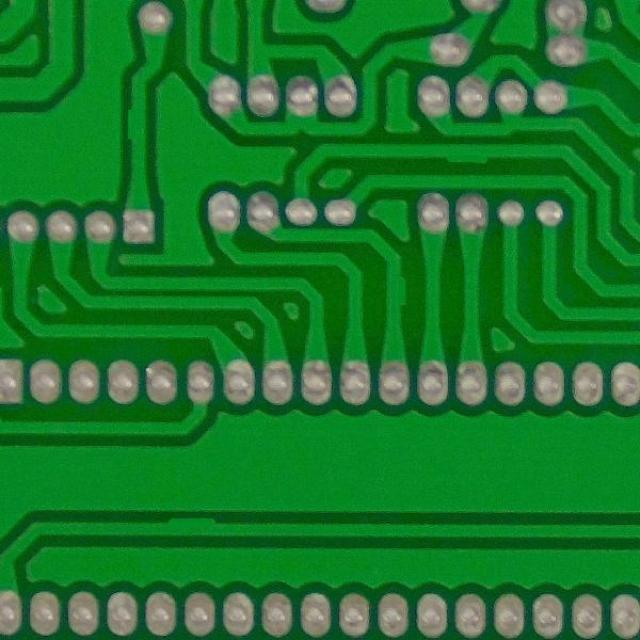Spur: (156, 512, 228, 543), (436, 138, 498, 170), (378, 266, 416, 314), (120, 100, 154, 148)
